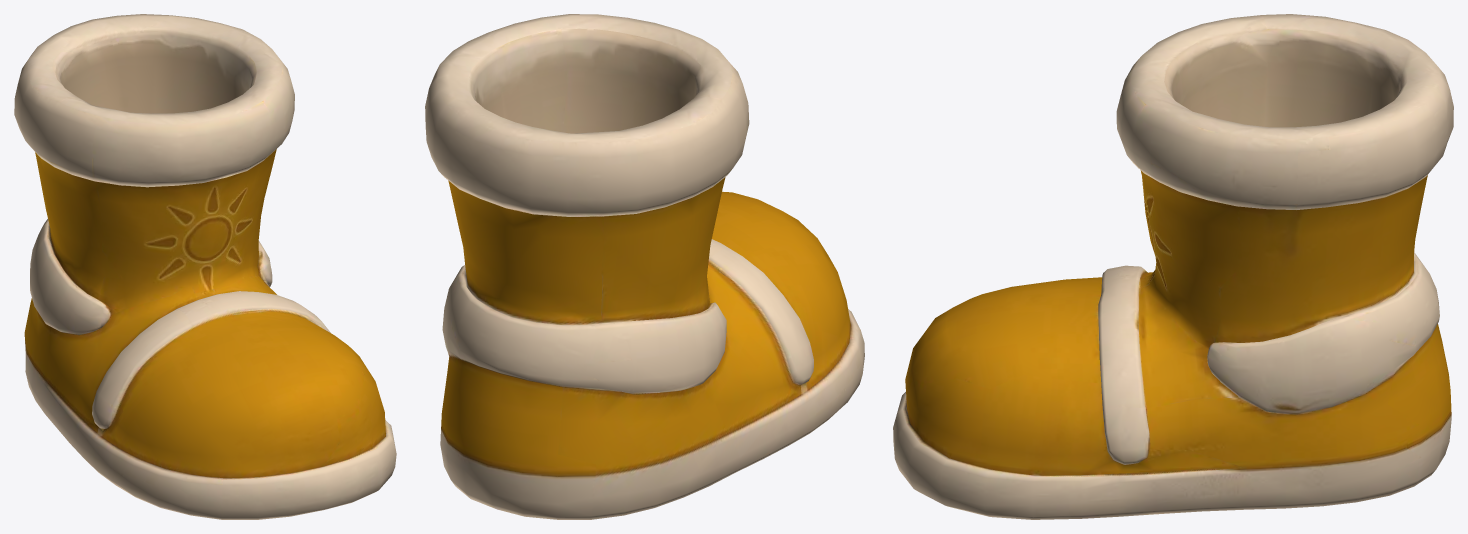
The model's file is botte_aube.glb.
3 renders of one model, left to right at view 1: azimuth 30°, elevation 25°; view 2: azimuth 150°, elevation 25°; view 3: azimuth 270°, elevation 25°, orthographic. The views are drawn at different scales.
Size of the model in its own units: 0.457 by 0.585 by 0.7671.
1 material, 1 textured.
